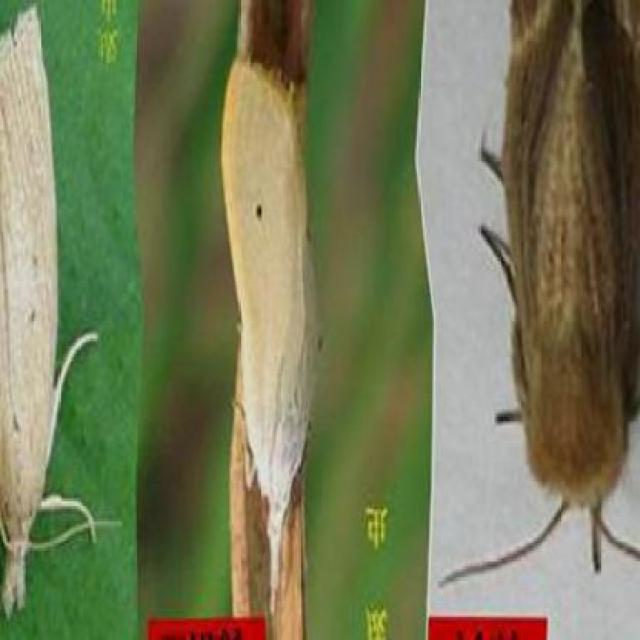stem-borer: (469, 0, 640, 583), (220, 54, 322, 612), (0, 0, 78, 631)
